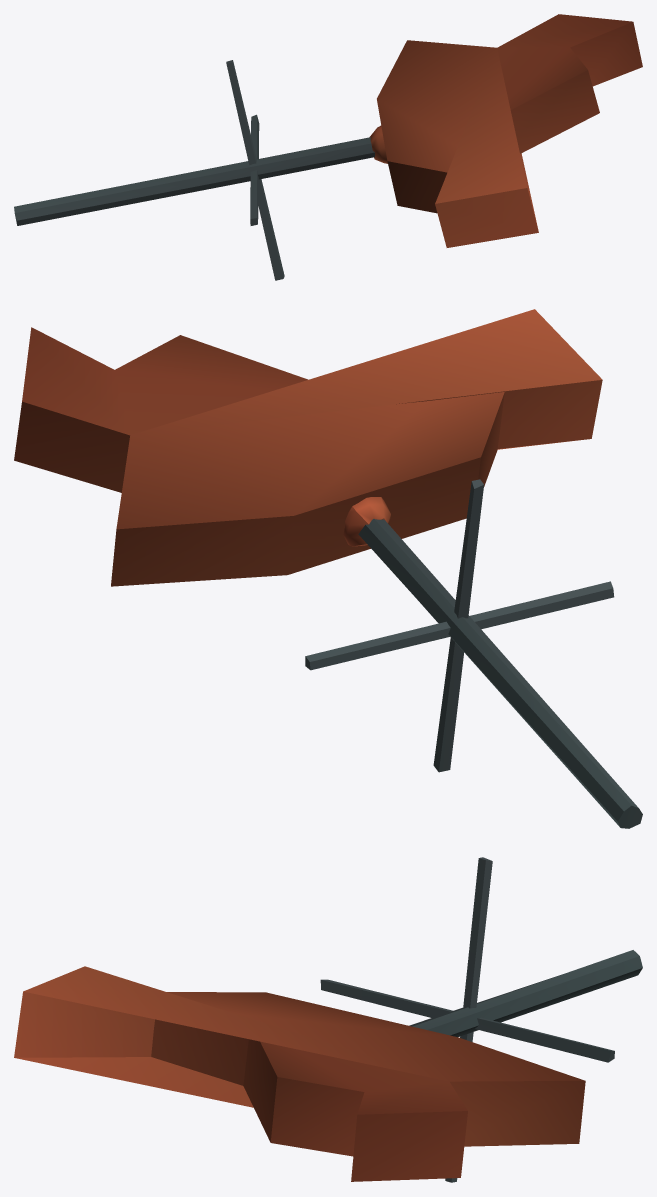
File: find_weathervane.glb
3 renders of one model, top to bottom at view 1: azimuth 30°, elevation 25°; view 2: azimuth 150°, elevation 25°; view 3: azimuth 270°, elevation 25°, orthographic. The views are drawn at different scales.
Visible parts, largest first — view 1: find_weathervane; view 2: find_weathervane; view 3: find_weathervane.
Boxes of the visible parts, left/top/right/bottom form: find_weathervane: left=14, top=14, right=642, bottom=280; find_weathervane: left=14, top=309, right=642, bottom=828; find_weathervane: left=14, top=857, right=642, bottom=1182.
Bounding box in the file's own units: 1.76 × 0.6943 × 1.32.
